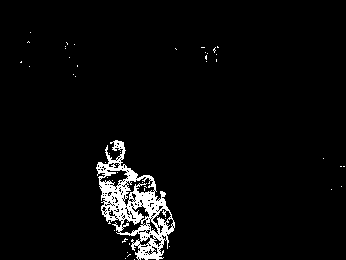person: (130, 174, 176, 260), (96, 140, 135, 236)
